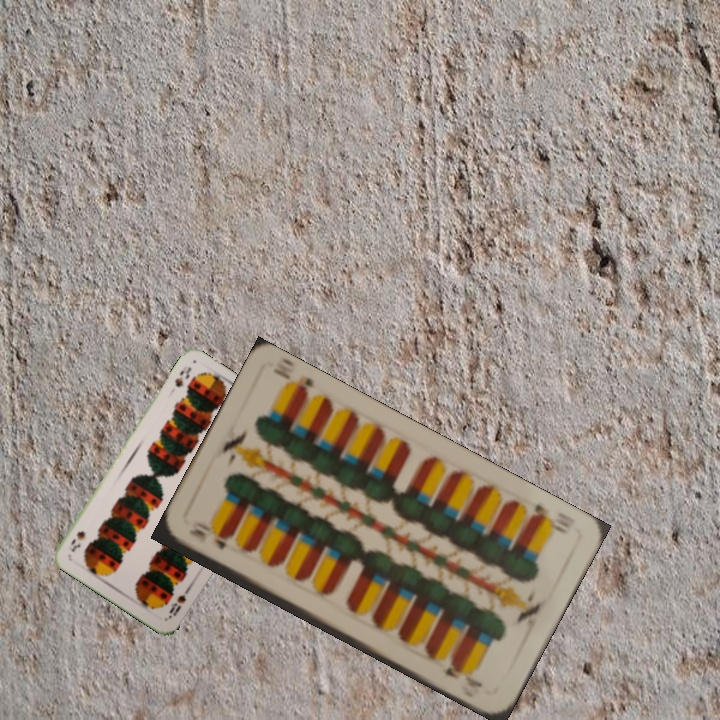E10: (526, 500, 569, 534), (184, 524, 229, 552)
S8: (164, 585, 192, 621), (171, 363, 194, 390)
